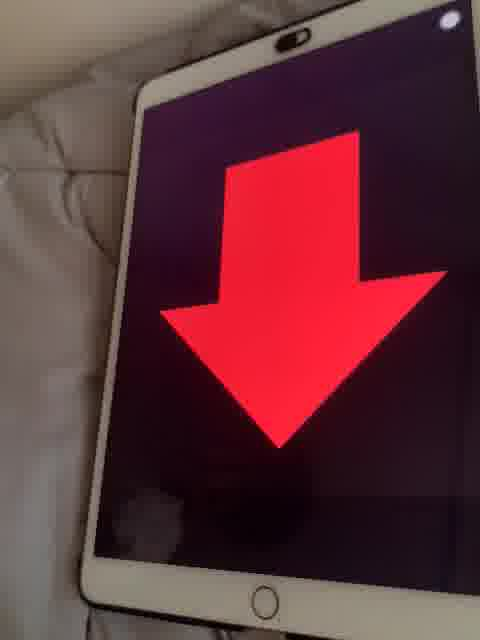down: (140, 130, 462, 467)
